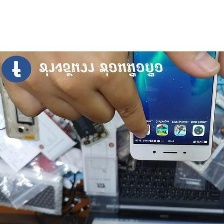phone: (123, 0, 224, 167), (0, 65, 46, 146), (55, 86, 112, 150)
